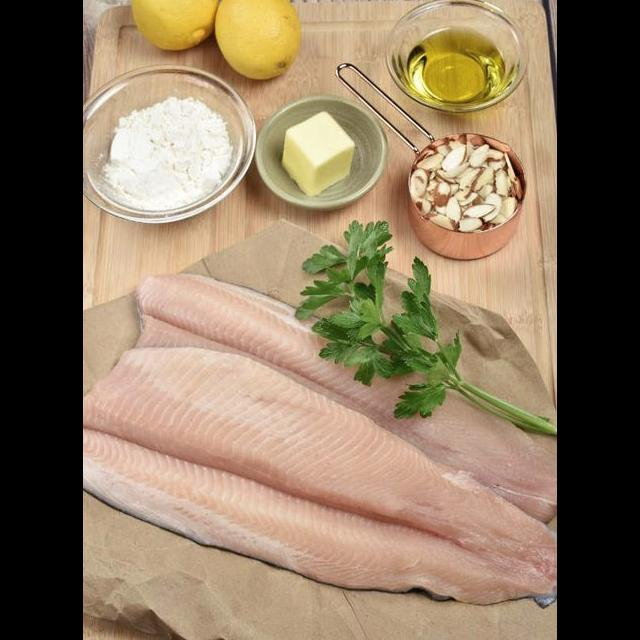fish: (83, 339, 557, 612)
